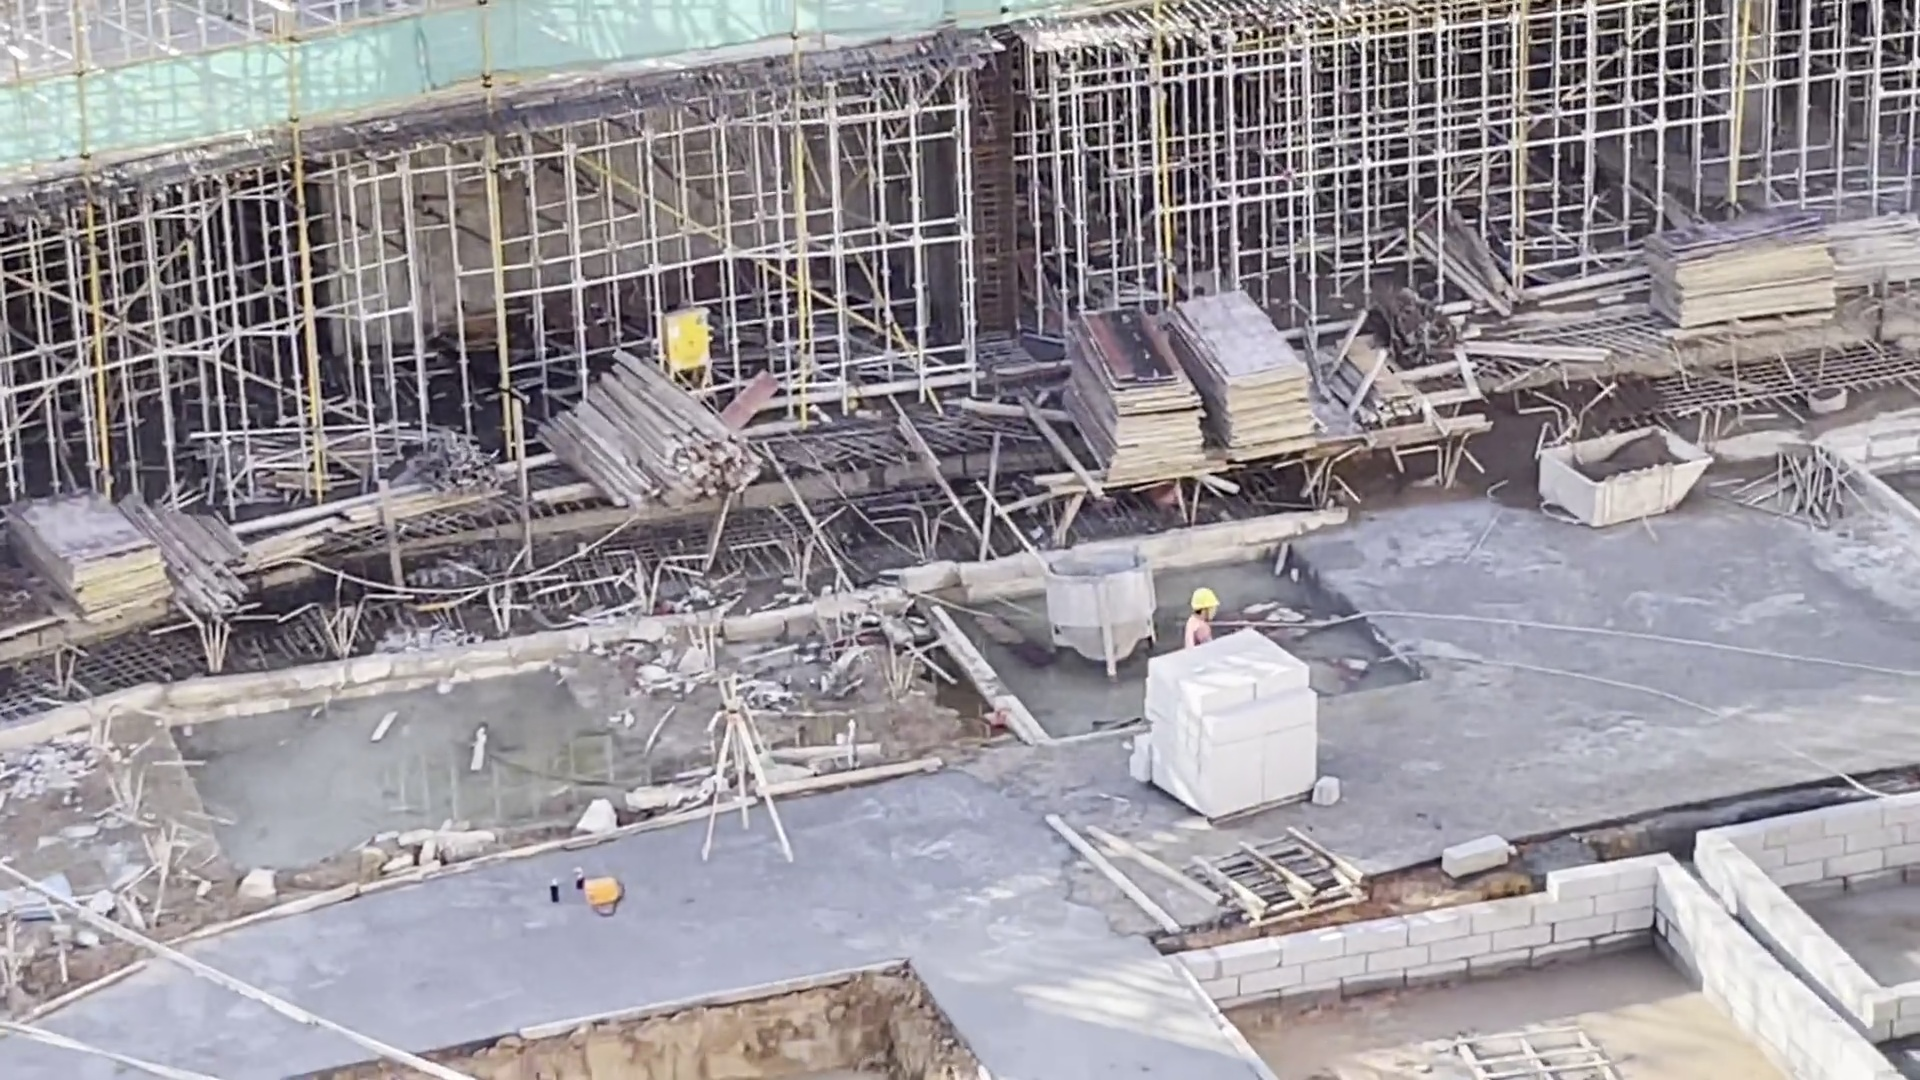board: (1055, 301, 1214, 491), (1644, 206, 1841, 337), (1173, 287, 1322, 456), (7, 486, 177, 631)
brick: (1131, 624, 1326, 817)
ebox: (654, 298, 715, 385)
hopper: (1532, 416, 1721, 534), (1037, 549, 1152, 676)
person: (1179, 583, 1222, 650), (1189, 586, 1220, 609)
vest: (1180, 616, 1220, 652)
wood: (534, 350, 762, 516), (182, 498, 252, 639)
